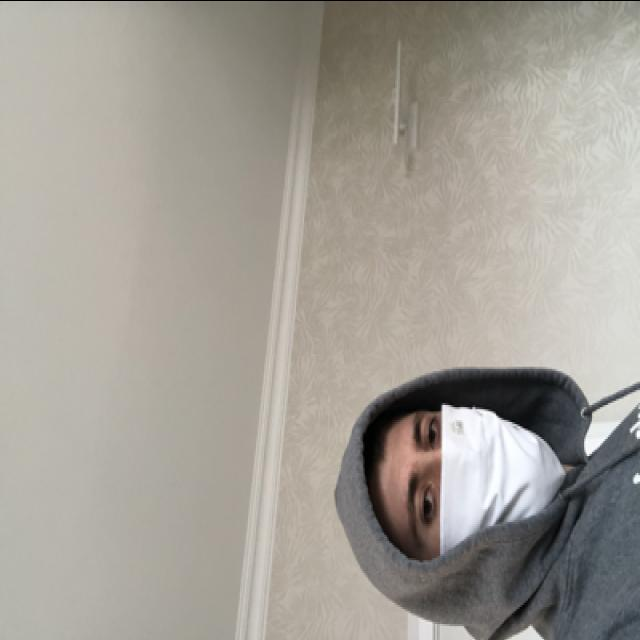with_mask: (395, 406, 565, 561)
